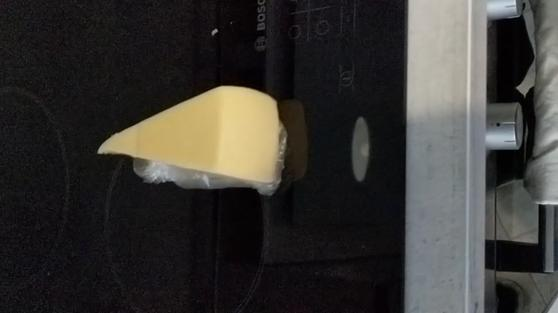cheese: (95, 79, 281, 188)
